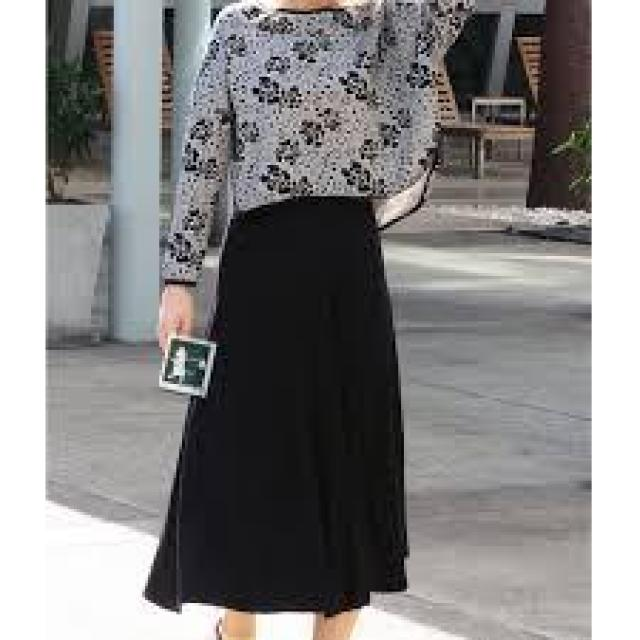skirt: (175, 207, 414, 608)
sweater: (162, 12, 469, 234)
